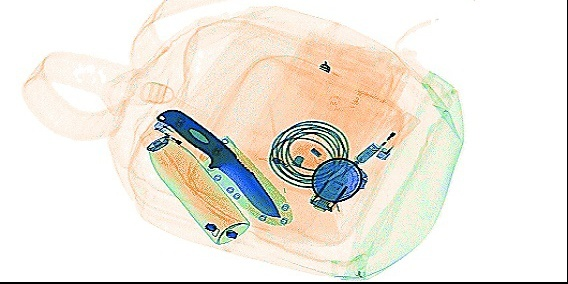knife: (153, 108, 291, 225)
lighter: (150, 120, 212, 161), (376, 109, 421, 160)
pressure: (138, 126, 249, 244)
